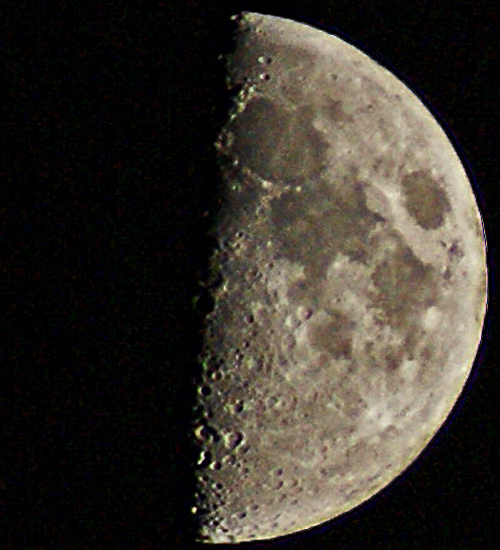crater: (211, 85, 340, 196), (395, 158, 458, 239), (246, 44, 285, 68), (293, 297, 320, 323), (223, 427, 247, 452)
